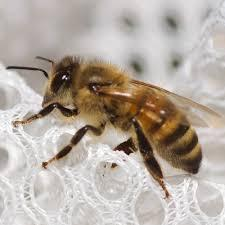Apis-mellifera-scutellata: (6, 48, 218, 199)
